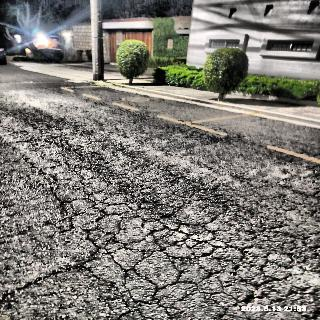alligator-crack: (85, 217, 320, 320), (28, 138, 223, 227)
crack: (195, 157, 320, 204), (0, 265, 81, 294), (0, 210, 77, 238)
